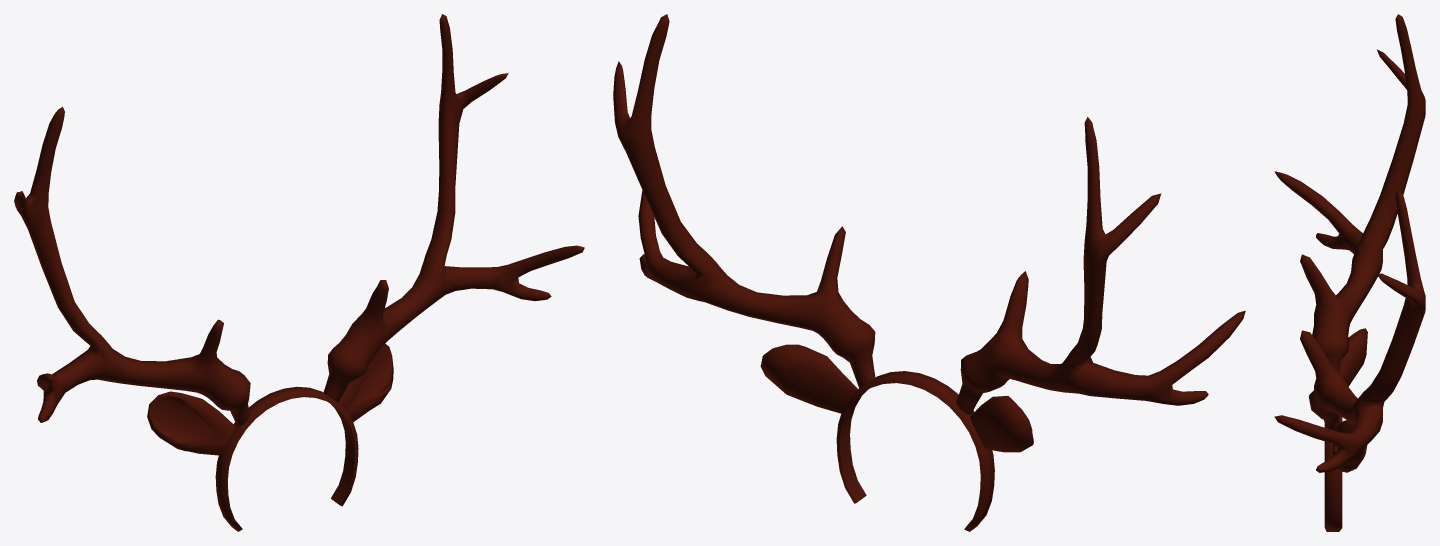
Rendered from Wear_Antler.glb.
3 views of the same model, side by side, from view 1: azimuth 30°, elevation 25°; view 2: azimuth 150°, elevation 25°; view 3: azimuth 270°, elevation 25° (orthographic). The views are drawn at different scales.
Visible parts, largest first — view 1: antler_hat; view 2: antler_hat; view 3: antler_hat.
Part boxes in pixels (<box>): antler_hat: <box>14,14,584,531</box>; antler_hat: <box>613,14,1245,531</box>; antler_hat: <box>1274,14,1425,531</box>.
Bounding box in the file's own units: 67.98 × 52.26 × 17.65.
